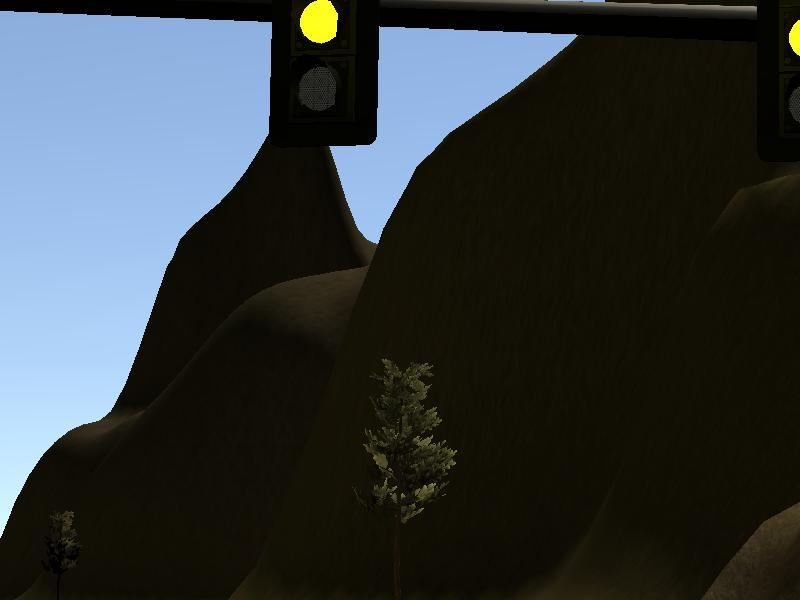yellow: (263, 2, 387, 148), (751, 8, 800, 166)
